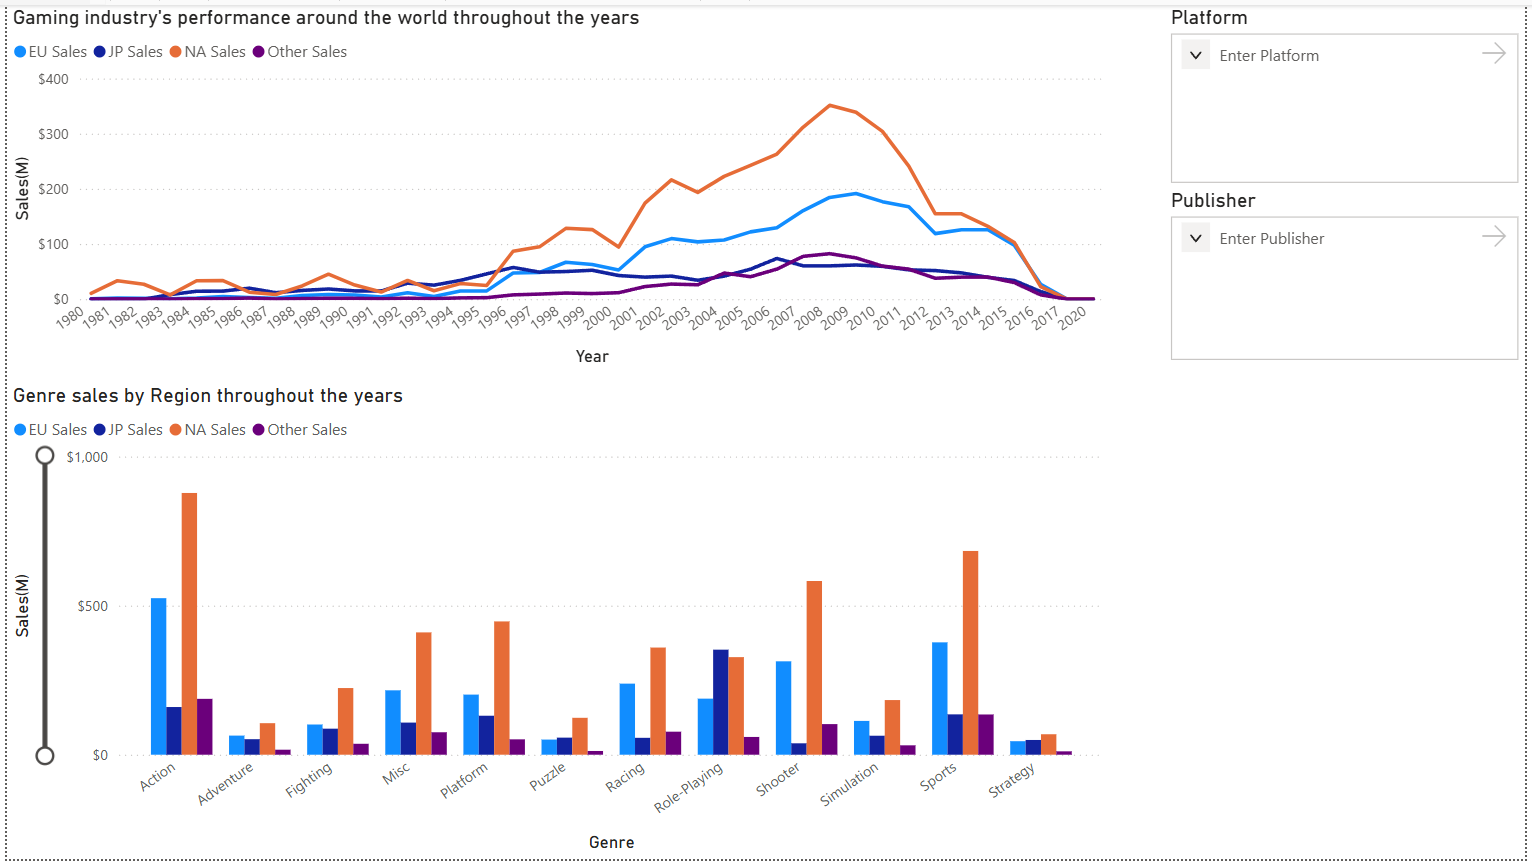

What the dashboard file says about the page in this screenshot:
{"tool":"powerbi","page":{"name":"Gaming Industry throughout the years","canvas":[1280,720],"ordinal":6},"visuals":[{"type":"lineChart","title":"Gaming industry''s performance around the world throughout the years","fields":{"Category":["vgsales.Year"],"Y":["Sum(vgsales.EU_Sales)","Sum(vgsales.JP_Sales)","Sum(vgsales.NA_Sales)","Sum(vgsales.Other_Sales)"]},"box":[0,0,929.8,309.3],"z":0},{"type":"textSlicer","fields":{"Values":["vgsales.Platform"]},"box":[976.5,0,303.5,154.7],"z":1000},{"type":"clusteredColumnChart","title":"Genre sales by Region throughout the years","fields":{"Y":["Sum(vgsales.EU_Sales)","Sum(vgsales.JP_Sales)","Sum(vgsales.NA_Sales)","Sum(vgsales.Other_Sales)"],"Category":["vgsales.Genre","vgsales.Year"]},"box":[0,319,929.8,400.7],"z":2000},{"type":"textSlicer","fields":{"Values":["vgsales.Publisher"]},"box":[976.5,154.7,303.5,149.8],"z":3000}]}

Visuals, with their boxes in screenshot pixels (x1, y1, x2, y2), scaled from the page's 1280x720 canvas onto the 1532x864 screenshot:
"Gaming industry''s performance around the world throughout the years" lineChart: 0,0,1113,371
textSlicer - vgsales.Platform: 1169,0,1531,186
"Genre sales by Region throughout the years" clusteredColumnChart: 0,383,1113,863
textSlicer - vgsales.Publisher: 1169,186,1531,365
